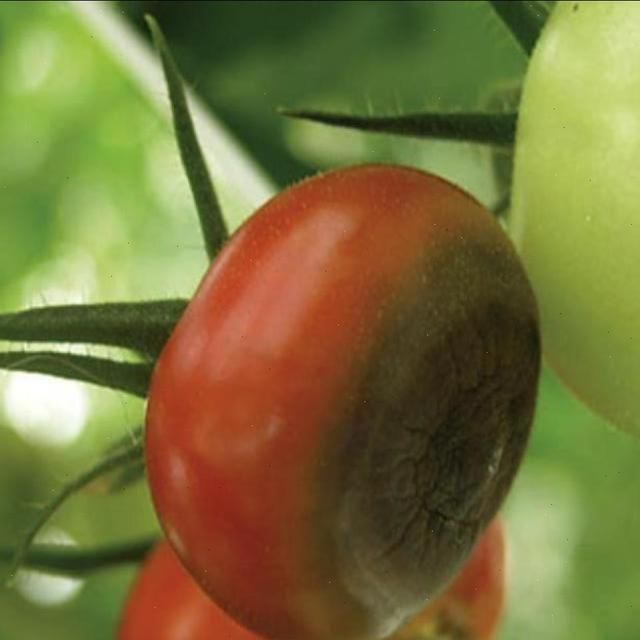Blossom End Rot Fruit: (208, 153, 364, 406)
